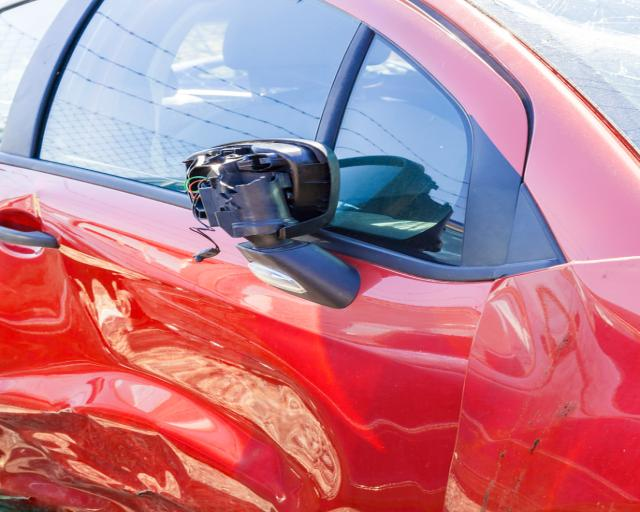dent: (0, 250, 344, 500), (0, 409, 270, 511)
